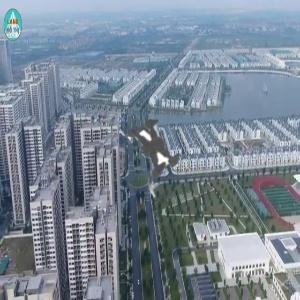drone: (84, 75, 224, 215)
